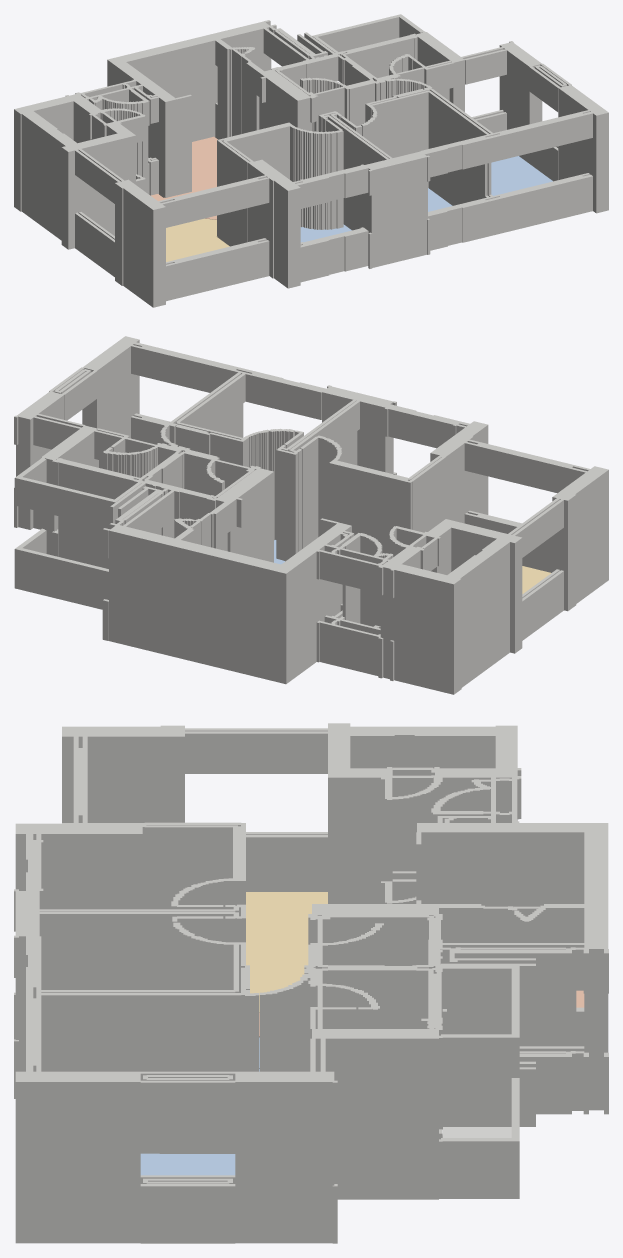
3 renders of one model, top to bottom at view 1: azimuth 30°, elevation 25°; view 2: azimuth 150°, elevation 25°; view 3: azimuth 270°, elevation 25°, orthographic. The views are drawn at different scales.
Parts seen in each view (by area): view 1: walls, room:living:7, room:bedroom:9, room:kitchen:0, room:bedroom:8; view 2: walls; view 3: walls, room:living:7, room:bedroom:9, room:ledge:3.
Part boxes in pixels (left/top/right/bottom): walls: left=14, top=14, right=608, bottom=307; room:living:7: left=166, top=218, right=229, bottom=261; room:bedroom:9: left=491, top=156, right=552, bottom=195; room:kitchen:0: left=151, top=136, right=217, bottom=219; room:bedroom:8: left=300, top=224, right=351, bottom=242; walls: left=14, top=336, right=608, bottom=694; walls: left=14, top=723, right=608, bottom=1243; room:living:7: left=246, top=892, right=327, bottom=1012; room:bedroom:9: left=140, top=1153, right=235, bottom=1175; room:ledge:3: left=442, top=1127, right=511, bottom=1137.
Bounding box in the file's own units: 13.39 × 2.8 × 9.37.
